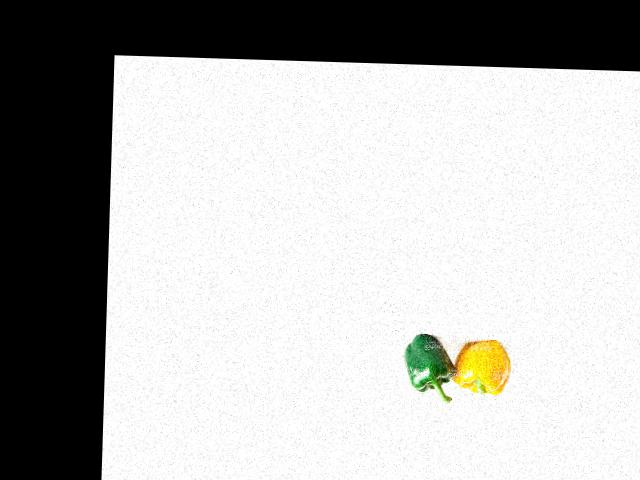bell_pepper: (398, 325, 455, 397)
